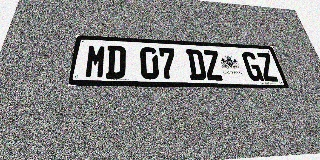0: (140, 47, 159, 79)
7: (158, 48, 178, 80)
D: (105, 45, 126, 79), (186, 49, 207, 80)
G: (241, 52, 264, 81)
M: (84, 44, 107, 78)
Z: (255, 52, 279, 82), (202, 50, 224, 81)
